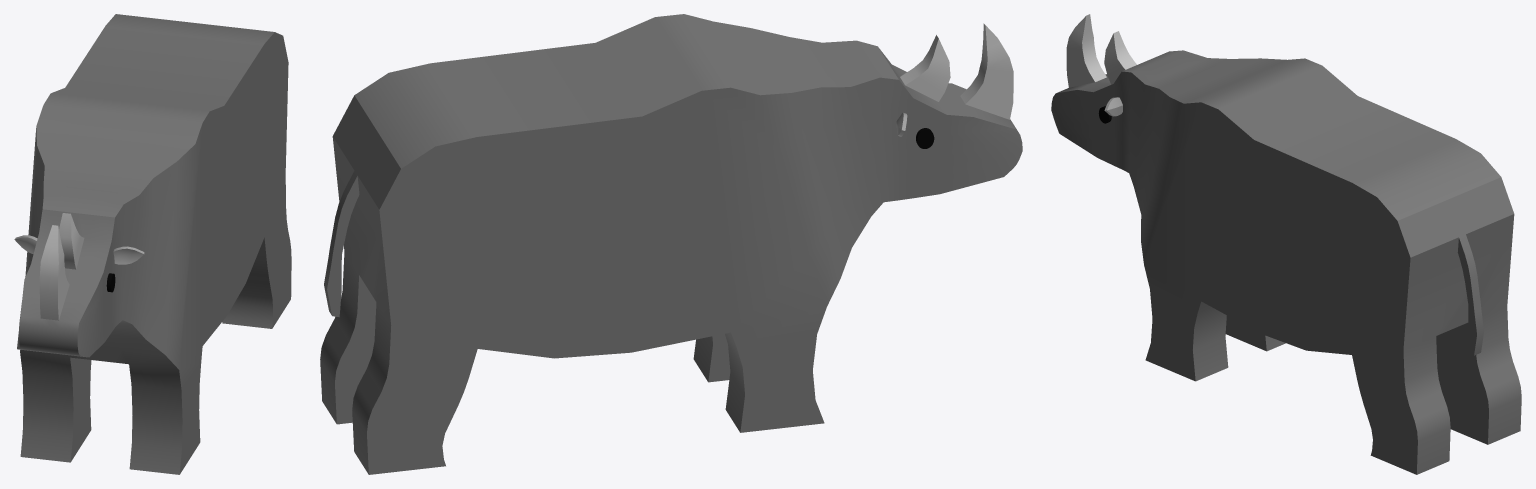
The model's file is rhinoceros.fbx.
The picture shows the model from 3 angles, left to right: view 1: azimuth 30°, elevation 25°; view 2: azimuth 150°, elevation 25°; view 3: azimuth 270°, elevation 25°; orthographic projection. The views are drawn at different scales.
Visible parts, largest first — view 1: Plane.136, Cube.6240; view 2: Plane.136; view 3: Plane.136.
Boxes of the visible parts, box(x1,y1,x2,y2) form: Plane.136: box(17, 14, 291, 474); Cube.6240: box(14, 235, 144, 264); Plane.136: box(320, 14, 1022, 474); Plane.136: box(1051, 14, 1521, 474).
Size of the model in its own units: 236 by 156 by 237.
1 material, 1 textured.
